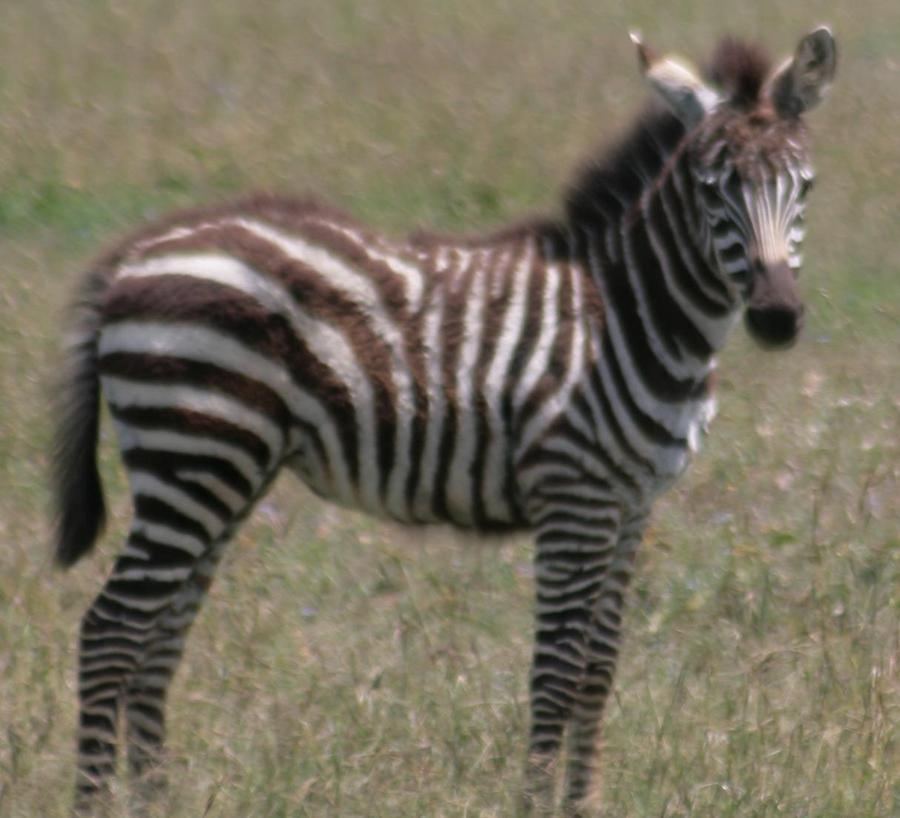zebra_plains: (73, 160, 715, 540)
